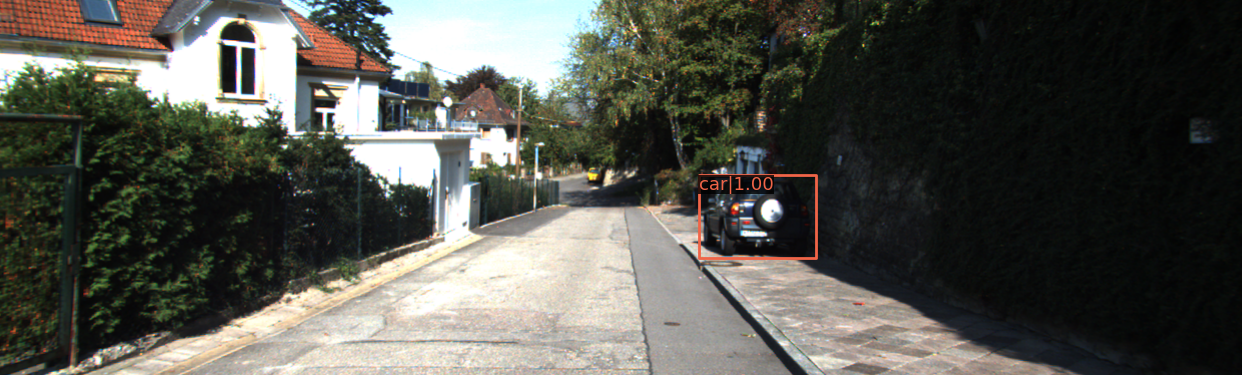car: (701, 175, 814, 259)
